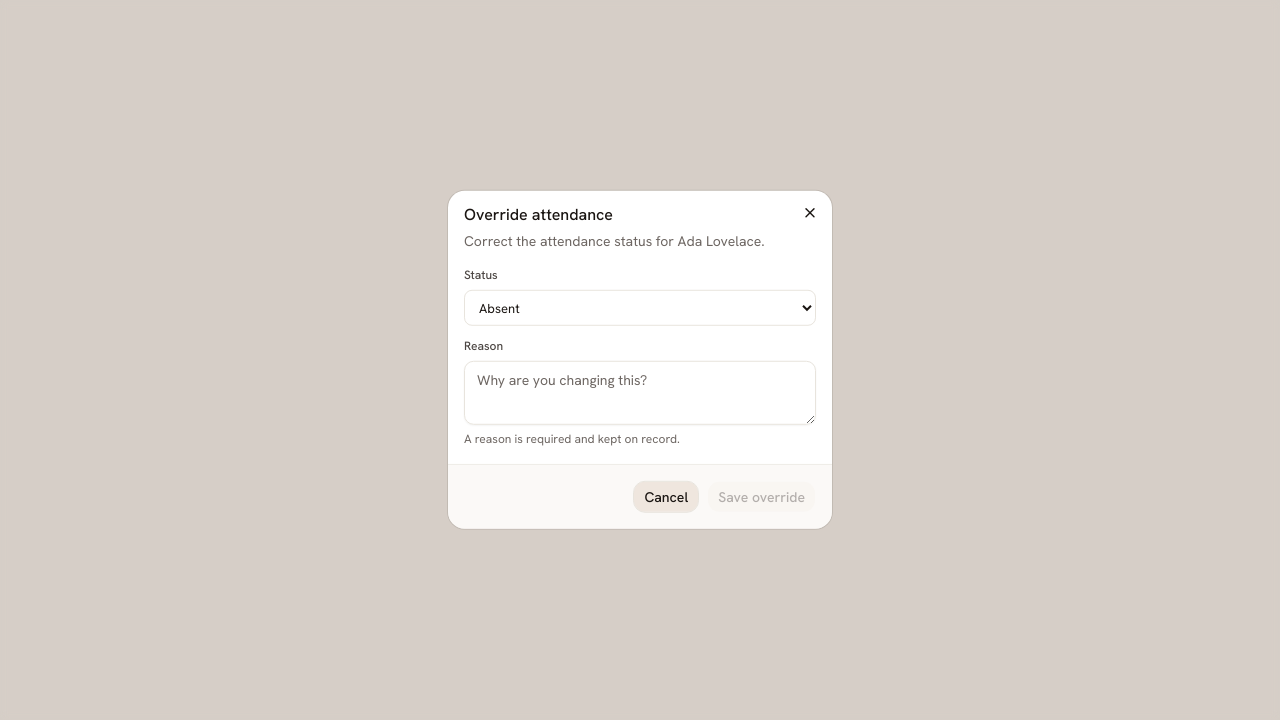
Test case: AttendanceOverrideDialog — reason guard › keeps confirm disabled until a non-empty reason is entered
Expected: the button "Save override" is disabled, [707,481,816,513]
Type "Medical leave, emailed" into the text box at (640, 393), box [464,361,816,425]
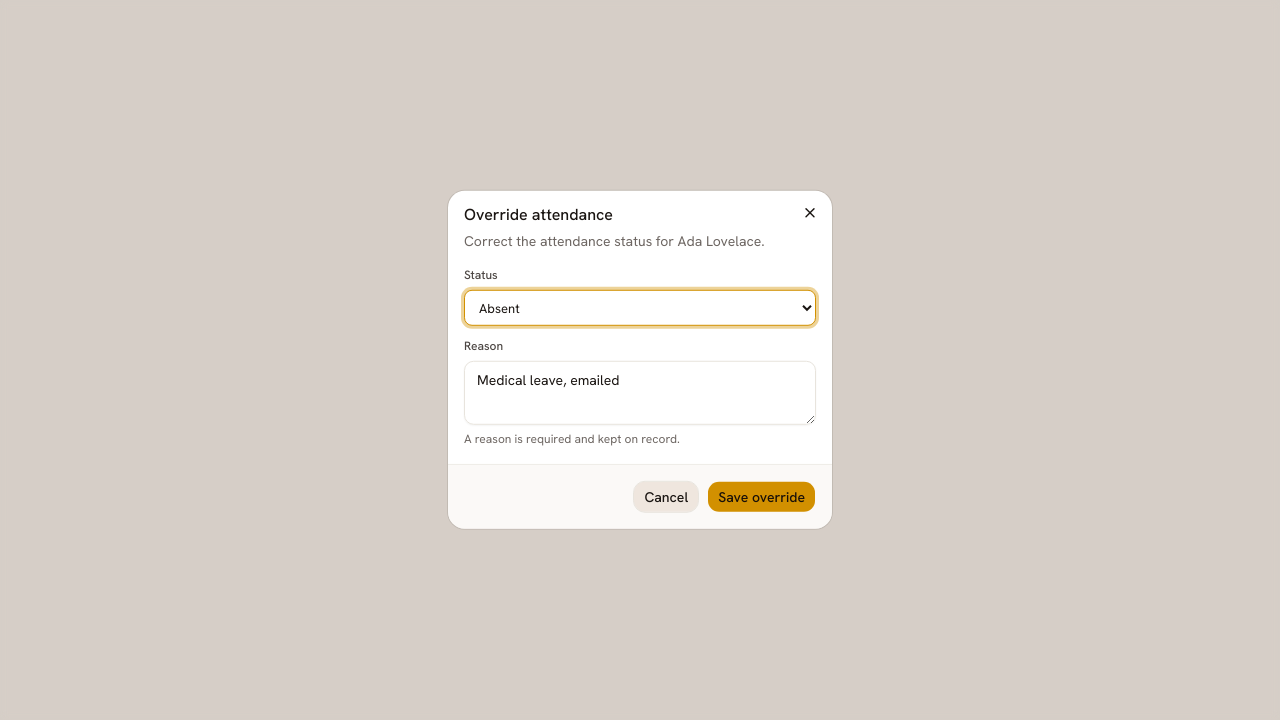
Expected: the button "Save override" is enabled, [707,481,816,513]
